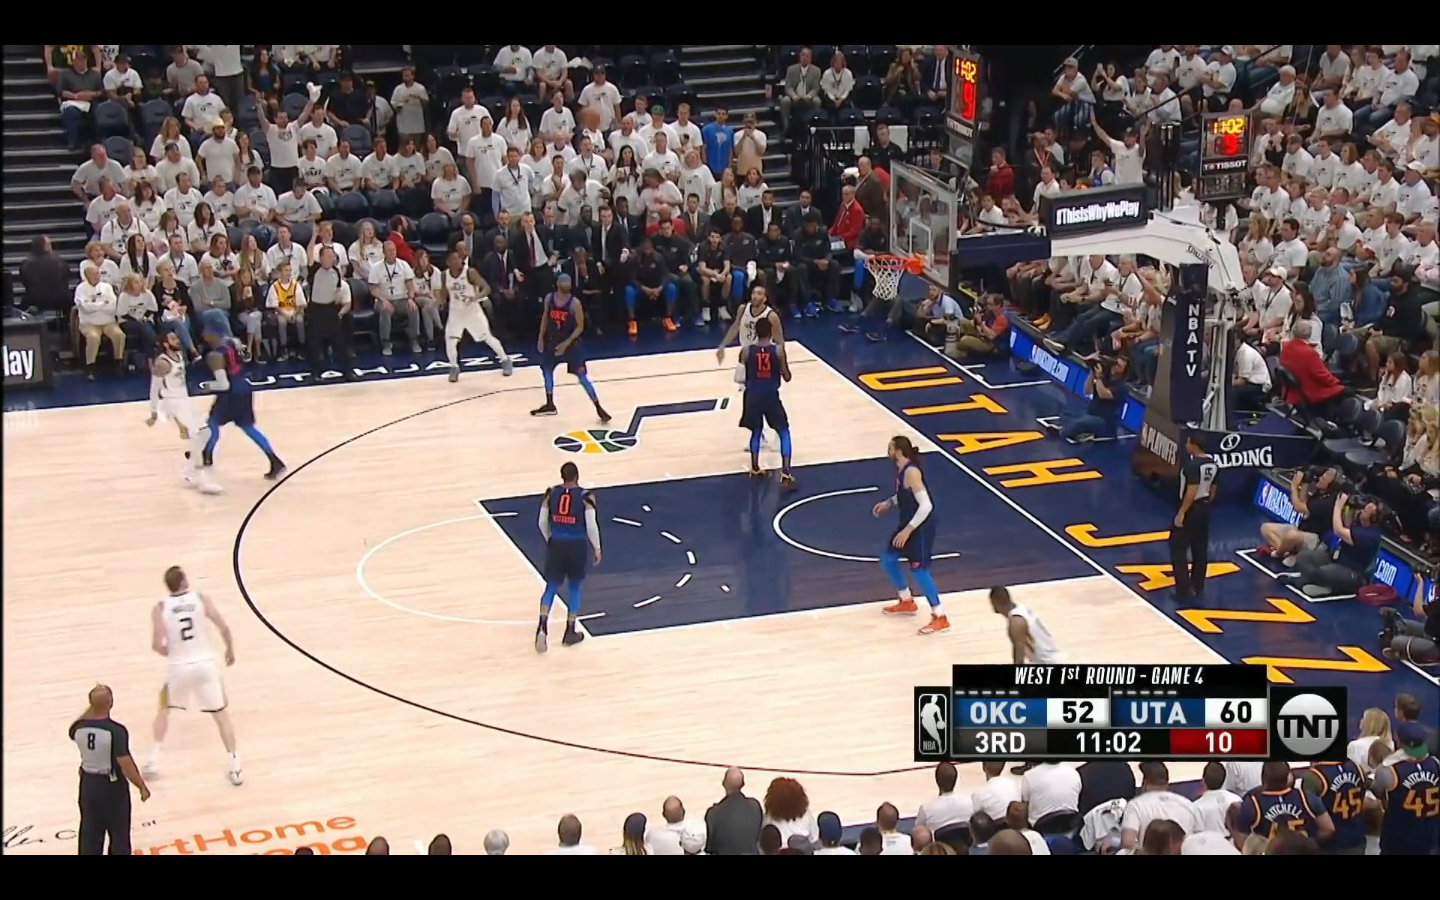basketball: (572, 103, 607, 136)
basketball player: (152, 563, 248, 789), (527, 463, 605, 651), (875, 434, 948, 637), (535, 268, 613, 422), (436, 252, 516, 394), (199, 328, 276, 474), (739, 319, 799, 488), (141, 328, 198, 472), (990, 580, 1067, 665), (727, 285, 788, 346)
referee: (62, 686, 147, 851), (1175, 436, 1222, 609)
